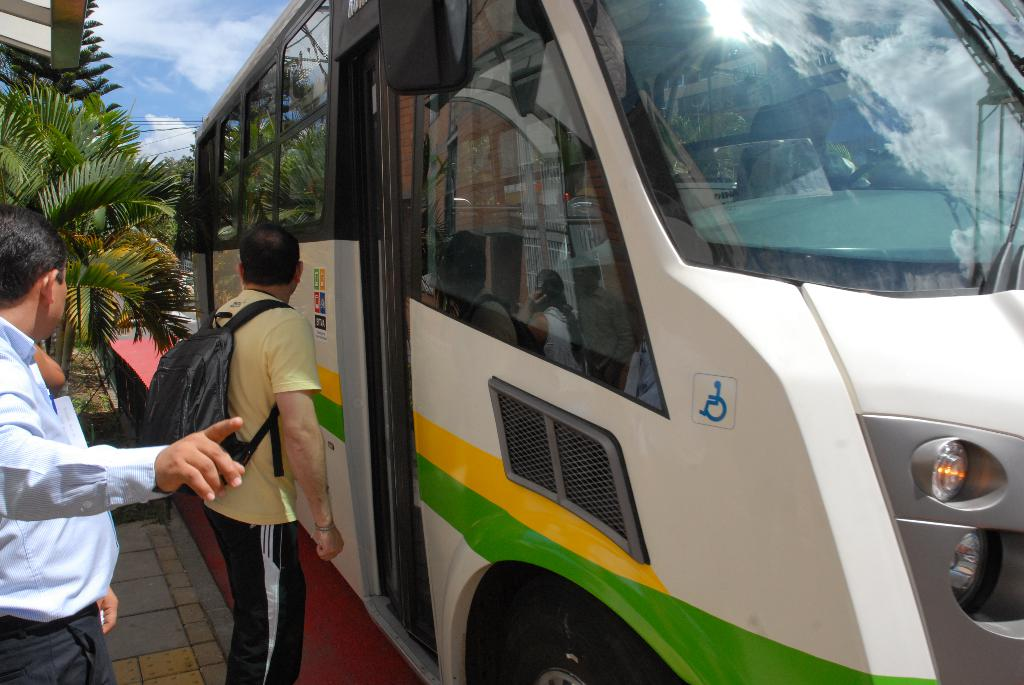Bus: (184, 0, 1023, 684)
